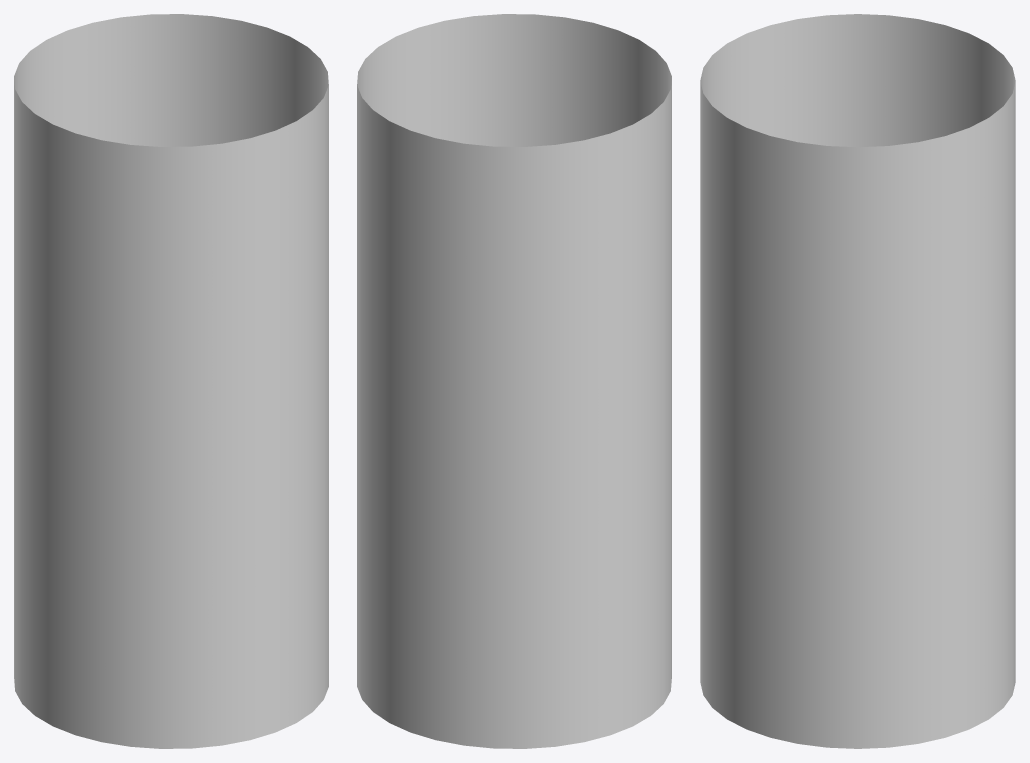
The model's file is TeleportCylinder.fbx.
3 views of the same model, side by side, from view 1: azimuth 30°, elevation 25°; view 2: azimuth 150°, elevation 25°; view 3: azimuth 270°, elevation 25° (orthographic).
Visible parts, largest first — view 1: TeleportCylinder; view 2: TeleportCylinder; view 3: TeleportCylinder.
Part boxes in pixels (x1,y1,x2,y2): TeleportCylinder: (14,14,328,748); TeleportCylinder: (357,14,671,748); TeleportCylinder: (700,14,1015,748).
Bounding box in the file's own units: 0.95 × 2 × 0.95.
1 material, 1 textured.
